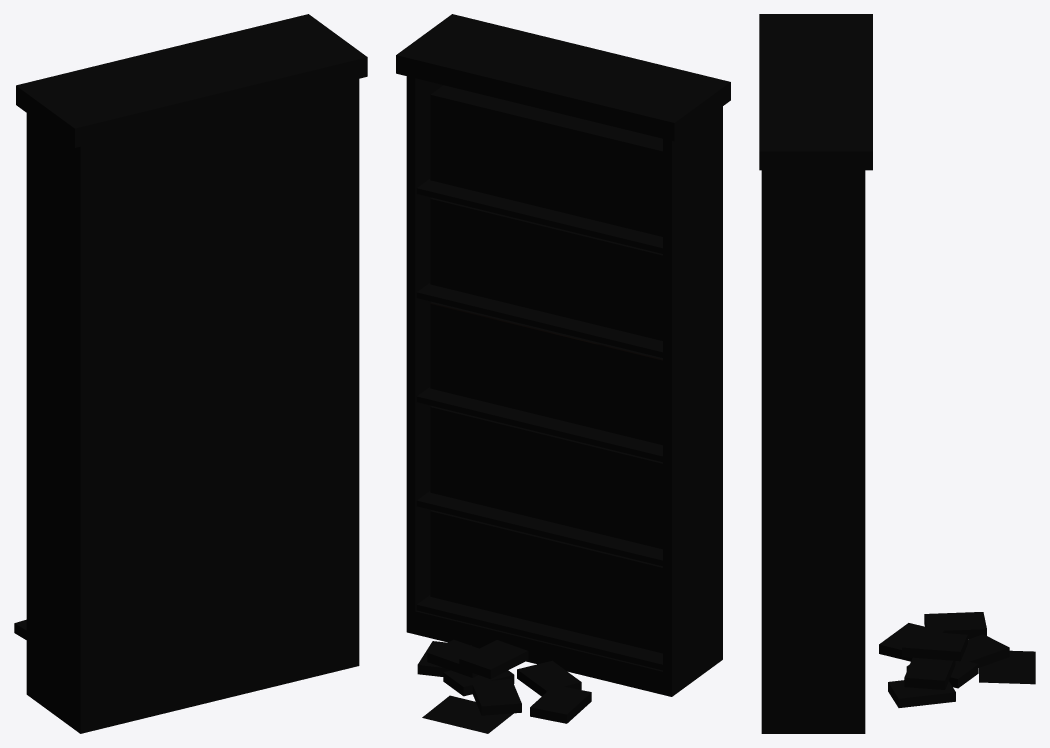
Rendered from SM_bookcase_ruined.fbx.
3 views of the same model, side by side, from view 1: azimuth 30°, elevation 25°; view 2: azimuth 150°, elevation 25°; view 3: azimuth 270°, elevation 25° (orthographic). The views are drawn at different scales.
Parts seen in each view (by area): view 1: bookcase_ruined; view 2: bookcase_ruined; view 3: bookcase_ruined.
Part boxes in pixels (x1,y1,x2,y2): bookcase_ruined: (14, 14, 367, 733); bookcase_ruined: (396, 14, 730, 733); bookcase_ruined: (759, 14, 1035, 733).
Bounding box in the file's own units: 1.26 × 2.5 × 1.07.
